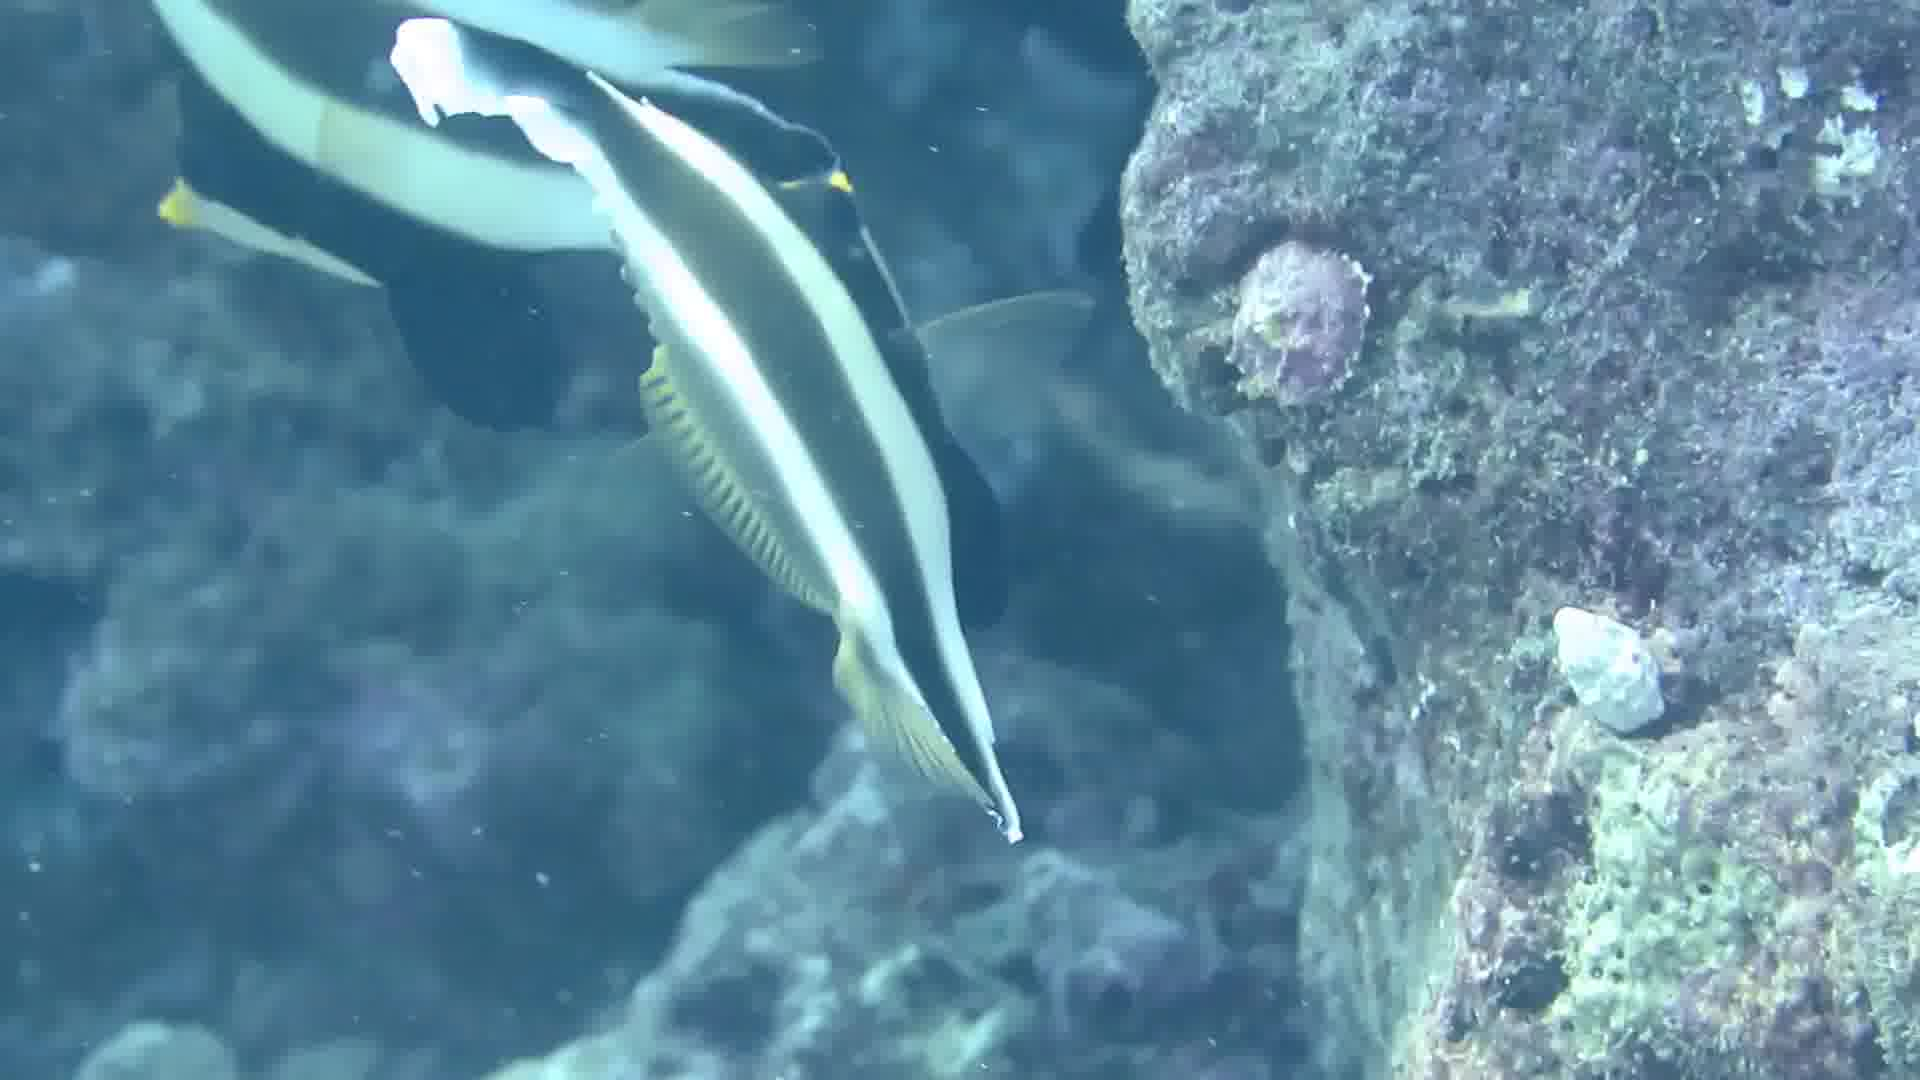Heniochus chrysostomus: (447, 15, 1199, 882)
